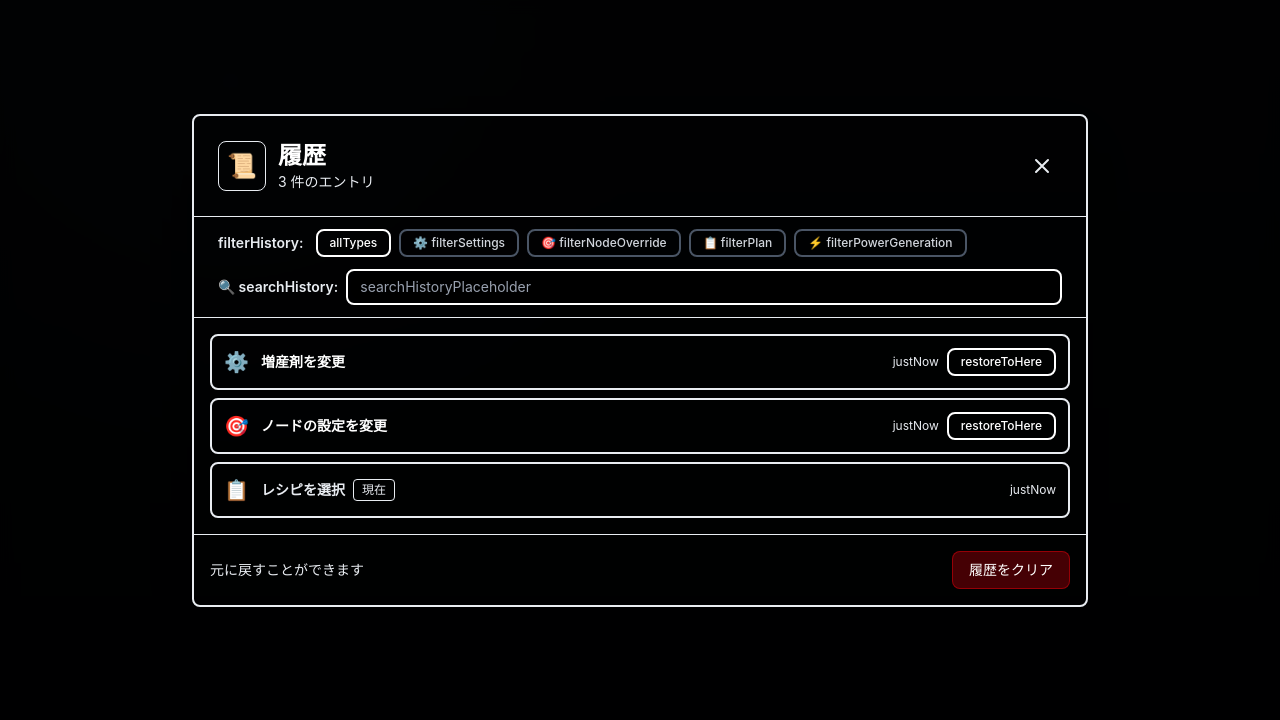
Test case: HistoryDialog › Search Functionality › should filter entries by search query
Type "増産" into the field with placeholder "searchHistoryPlaceholder" at (704, 286), box [346,268,1062,304]
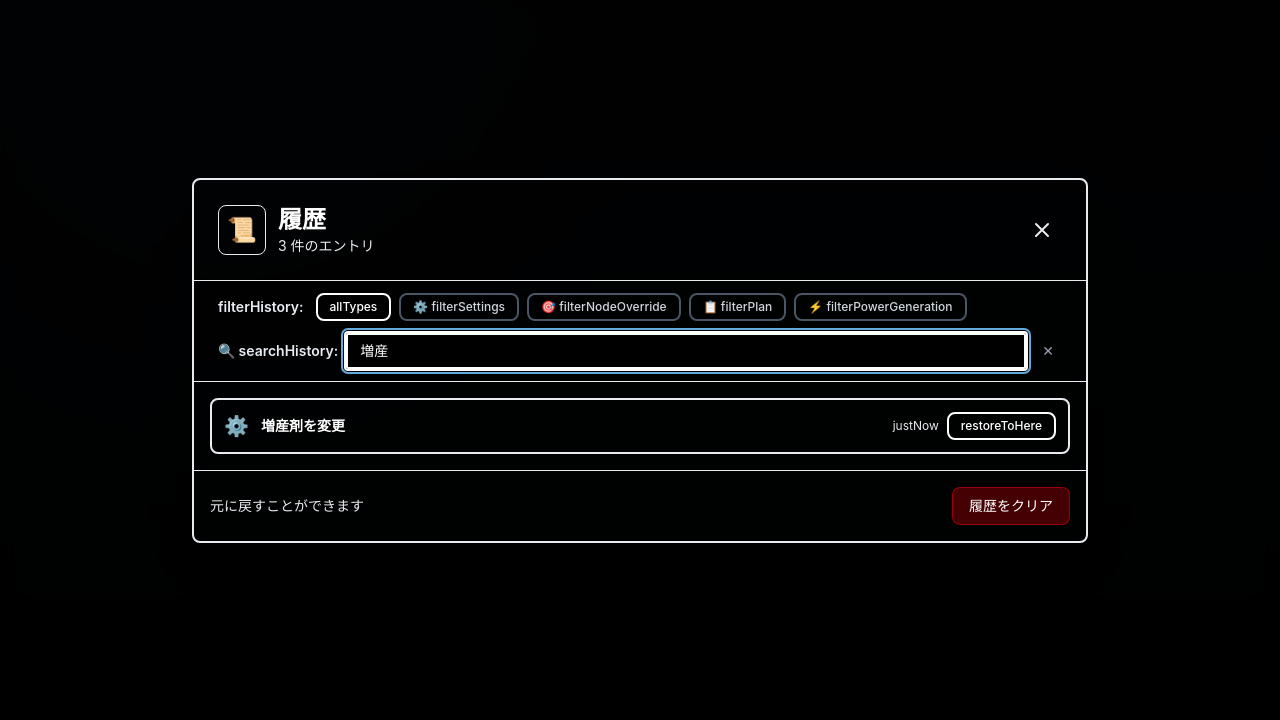
Expected: the text "増産剤を変更" is shown, [261,416,345,436]
Expected: the text "ノードの設定を変更" is gone
Expected: the text "レシピを選択" is gone
